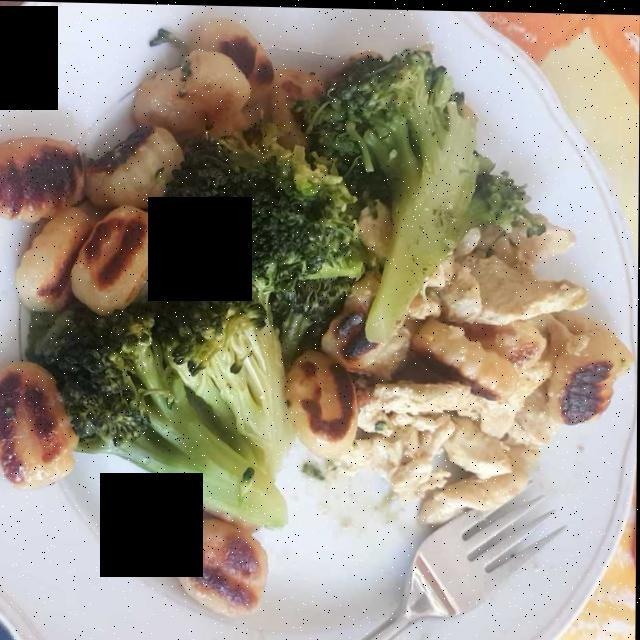broccoli: (60, 57, 516, 561)
chicken: (319, 212, 601, 550)
gnocchi: (16, 38, 398, 611)
